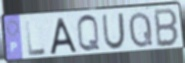A: (48, 16, 79, 56)
B: (153, 7, 180, 49)
L: (24, 19, 48, 58)
Q: (75, 14, 102, 54), (128, 10, 155, 49)
U: (101, 12, 127, 51)
